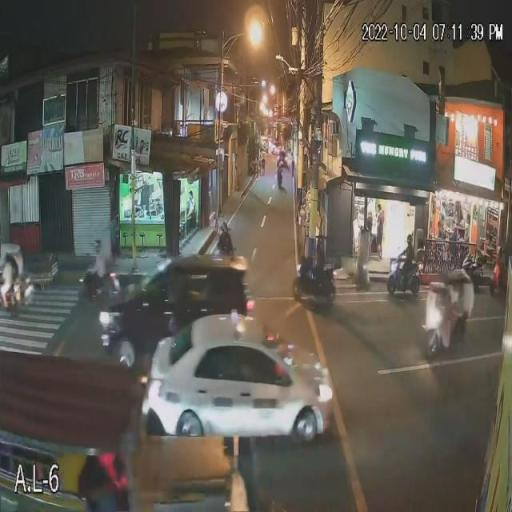helmet: (92, 238, 104, 254), (314, 238, 326, 251), (403, 234, 414, 248)
motorcycle: (73, 263, 123, 308), (292, 252, 336, 301), (381, 260, 421, 298)
rider: (87, 232, 109, 293), (310, 229, 328, 282), (401, 227, 415, 271)
